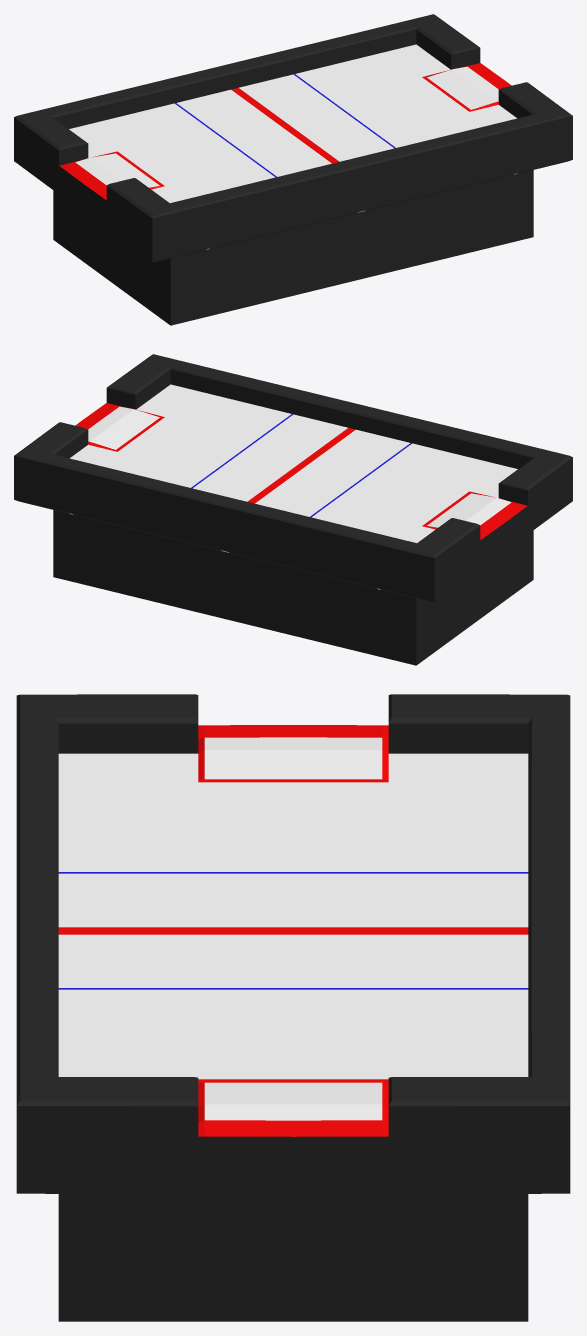
File: Air Hockey Table.fbx
The picture shows the model from 3 angles, top to bottom: view 1: azimuth 30°, elevation 25°; view 2: azimuth 150°, elevation 25°; view 3: azimuth 270°, elevation 25°; orthographic projection. The views are drawn at different scales.
Parts seen in each view (by area): view 1: Cube; view 2: Cube; view 3: Cube.
Part boxes in pixels (<box>): Cube: <box>14,14,572,325</box>; Cube: <box>14,354,572,665</box>; Cube: <box>16,694,570,1321</box>.
Bounding box in the file's own units: 2325 × 650 × 1320.
